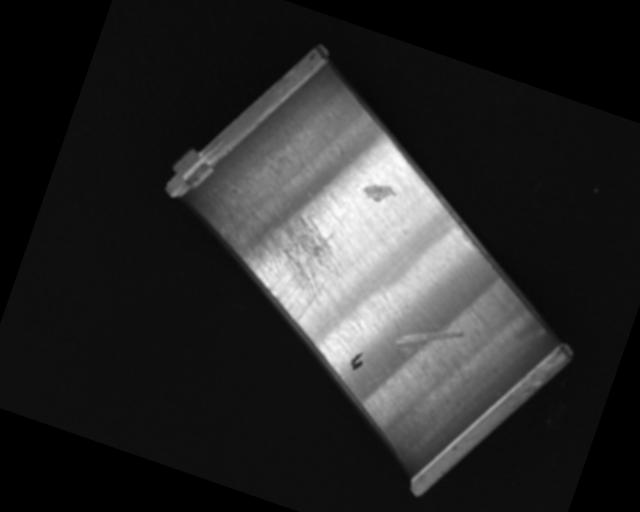blot: (347, 348, 366, 373)
bruise: (359, 177, 398, 208)
nick: (349, 309, 407, 405), (392, 312, 464, 367)
scratch: (205, 185, 359, 332)
